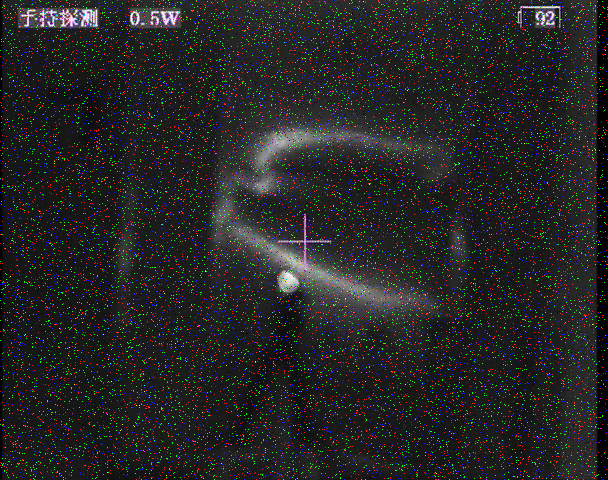my: (276, 269, 300, 293)
